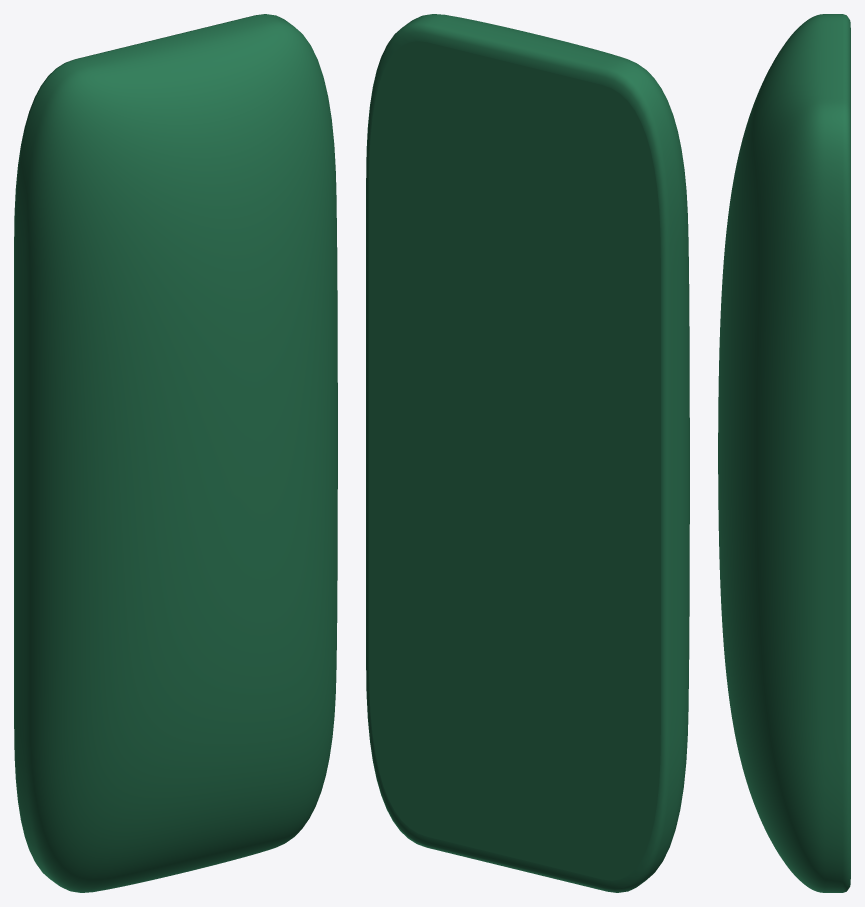
Rendered from rounded-rectangle.glb.
3 renders of one model, left to right at view 1: azimuth 30°, elevation 25°; view 2: azimuth 150°, elevation 25°; view 3: azimuth 270°, elevation 25°, orthographic. The views are drawn at different scales.
Parts seen in each view (by area): view 1: Rounded-Rectangle Cabochon 26x10x4mm; view 2: Rounded-Rectangle Cabochon 26x10x4mm; view 3: Rounded-Rectangle Cabochon 26x10x4mm.
Part boxes in pixels (x1,y1,x2,y2): Rounded-Rectangle Cabochon 26x10x4mm: (14, 14, 337, 892); Rounded-Rectangle Cabochon 26x10x4mm: (366, 14, 689, 892); Rounded-Rectangle Cabochon 26x10x4mm: (718, 14, 850, 892).
Size of the model in its own units: 0.01 by 0.026 by 0.00398.
